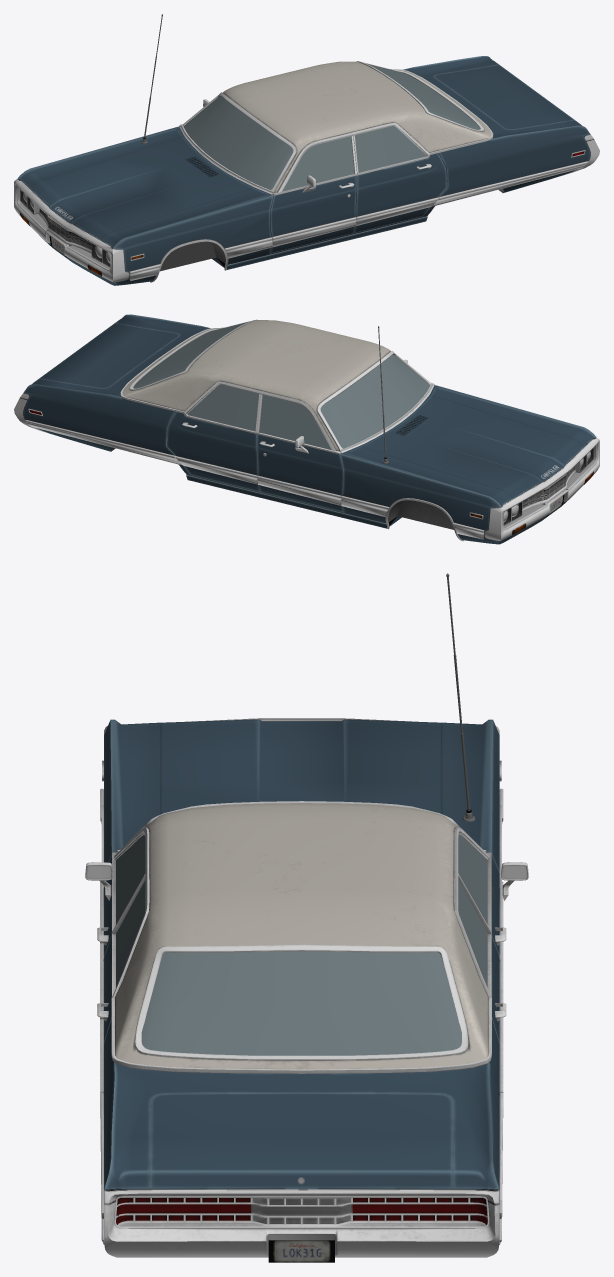
The model's file is chassis.obj.
3 renders of one model, top to bottom at view 1: azimuth 30°, elevation 25°; view 2: azimuth 150°, elevation 25°; view 3: azimuth 270°, elevation 25°, orthographic. The views are drawn at different scales.
Parts seen in each view (by area): view 1: base_UNWRAPPED_0, base_Glass_0, door3_UNWRAPPED_0, door1_UNWRAPPED_0; view 2: base_UNWRAPPED_0, base_Glass_0, door4_UNWRAPPED_0, door3_UNWRAPPED_0; view 3: base_UNWRAPPED_0, base_Glass_0, door3_UNWRAPPED_0.
Part boxes in pixels (x1,y1,x2,y2): base_UNWRAPPED_0: (14,56,599,285); base_Glass_0: (183,64,480,191); door3_UNWRAPPED_0: (354,153,446,232); door1_UNWRAPPED_0: (270,176,356,253); base_UNWRAPPED_0: (14,314,599,544); base_Glass_0: (133,322,430,449); door4_UNWRAPPED_0: (167,412,259,491); door3_UNWRAPPED_0: (257,434,343,511); base_UNWRAPPED_0: (85,718,528,1262); base_Glass_0: (116,835,487,1055); door3_UNWRAPPED_0: (104,855,499,1042).
Bounding box in the file's own units: 1.25 × 0.4653 × 0.4819.
7 materials, 5 textured.
